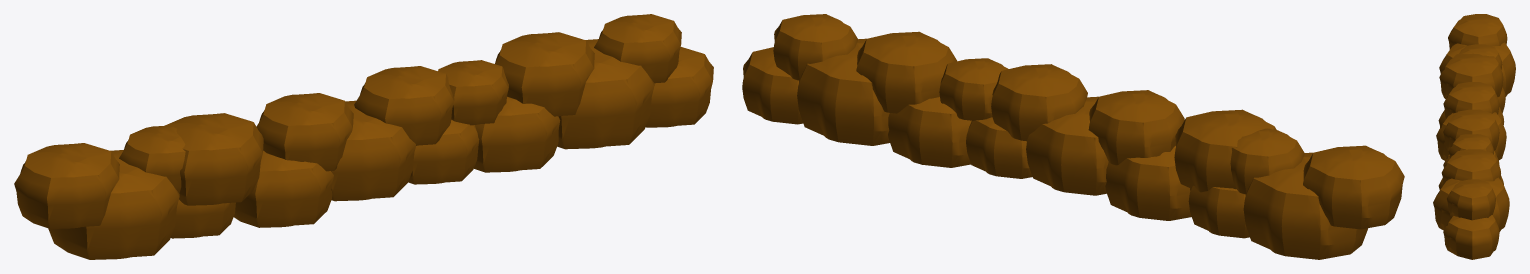
File: Rock_Wall.fbx
3 renders of one model, left to right at view 1: azimuth 30°, elevation 25°; view 2: azimuth 150°, elevation 25°; view 3: azimuth 270°, elevation 25°, orthographic. The views are drawn at different scales.
Parts seen in each view (by area): view 1: polySurface46; view 2: polySurface46; view 3: polySurface46.
Part boxes in pixels (bbox=[...]): polySurface46: bbox=[14, 14, 713, 259]; polySurface46: bbox=[742, 14, 1404, 259]; polySurface46: bbox=[1433, 14, 1515, 259].
Bounding box in the file's own units: 23.32 × 3.24 × 4.14.
